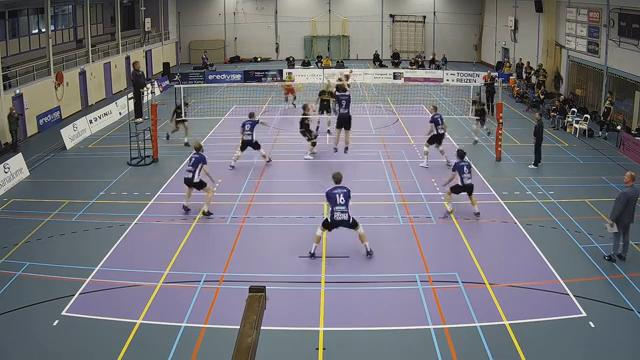attacco: (326, 65, 355, 119)
muro: (321, 68, 357, 158)
